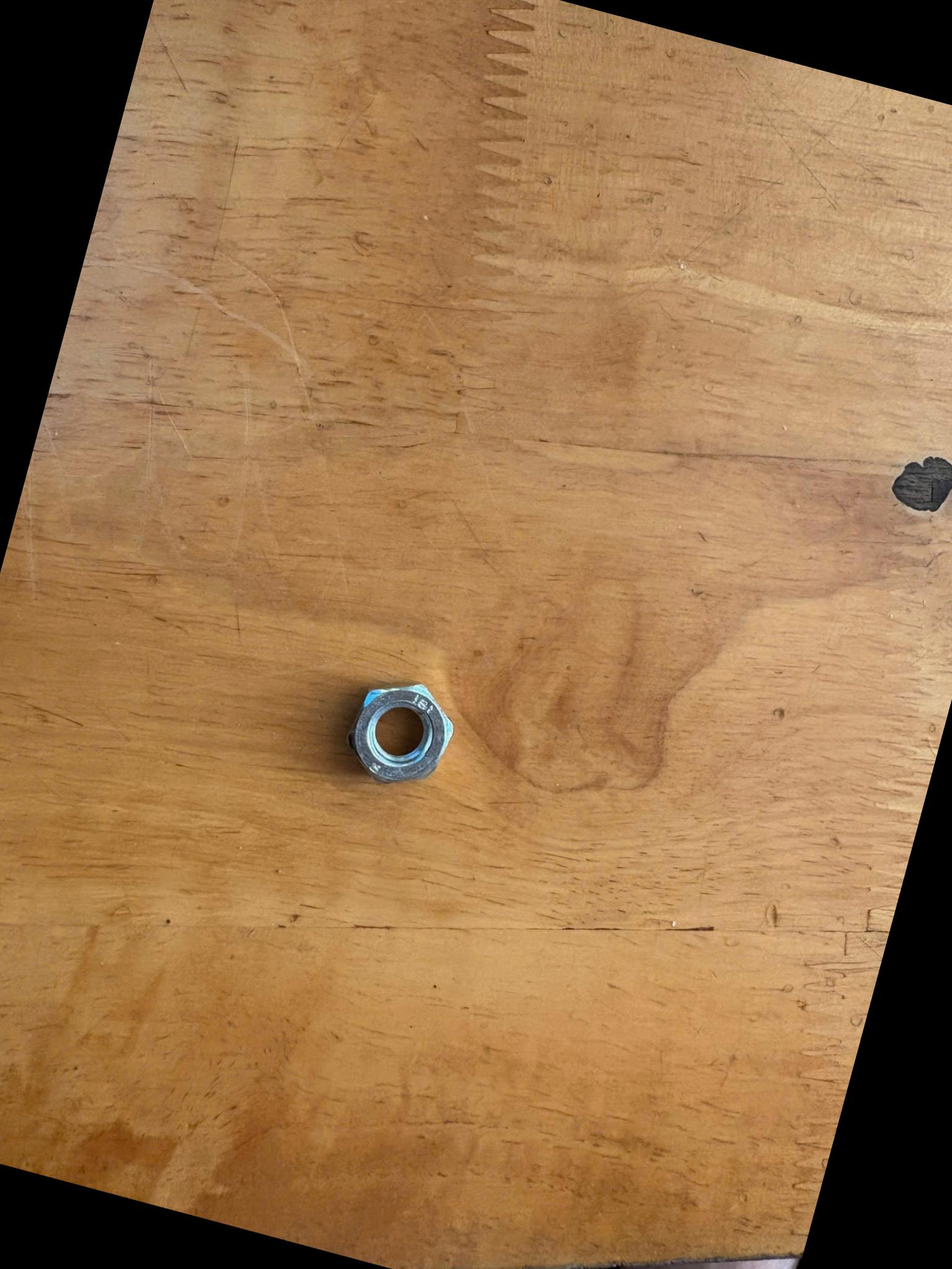nut: (327, 648, 479, 837)
